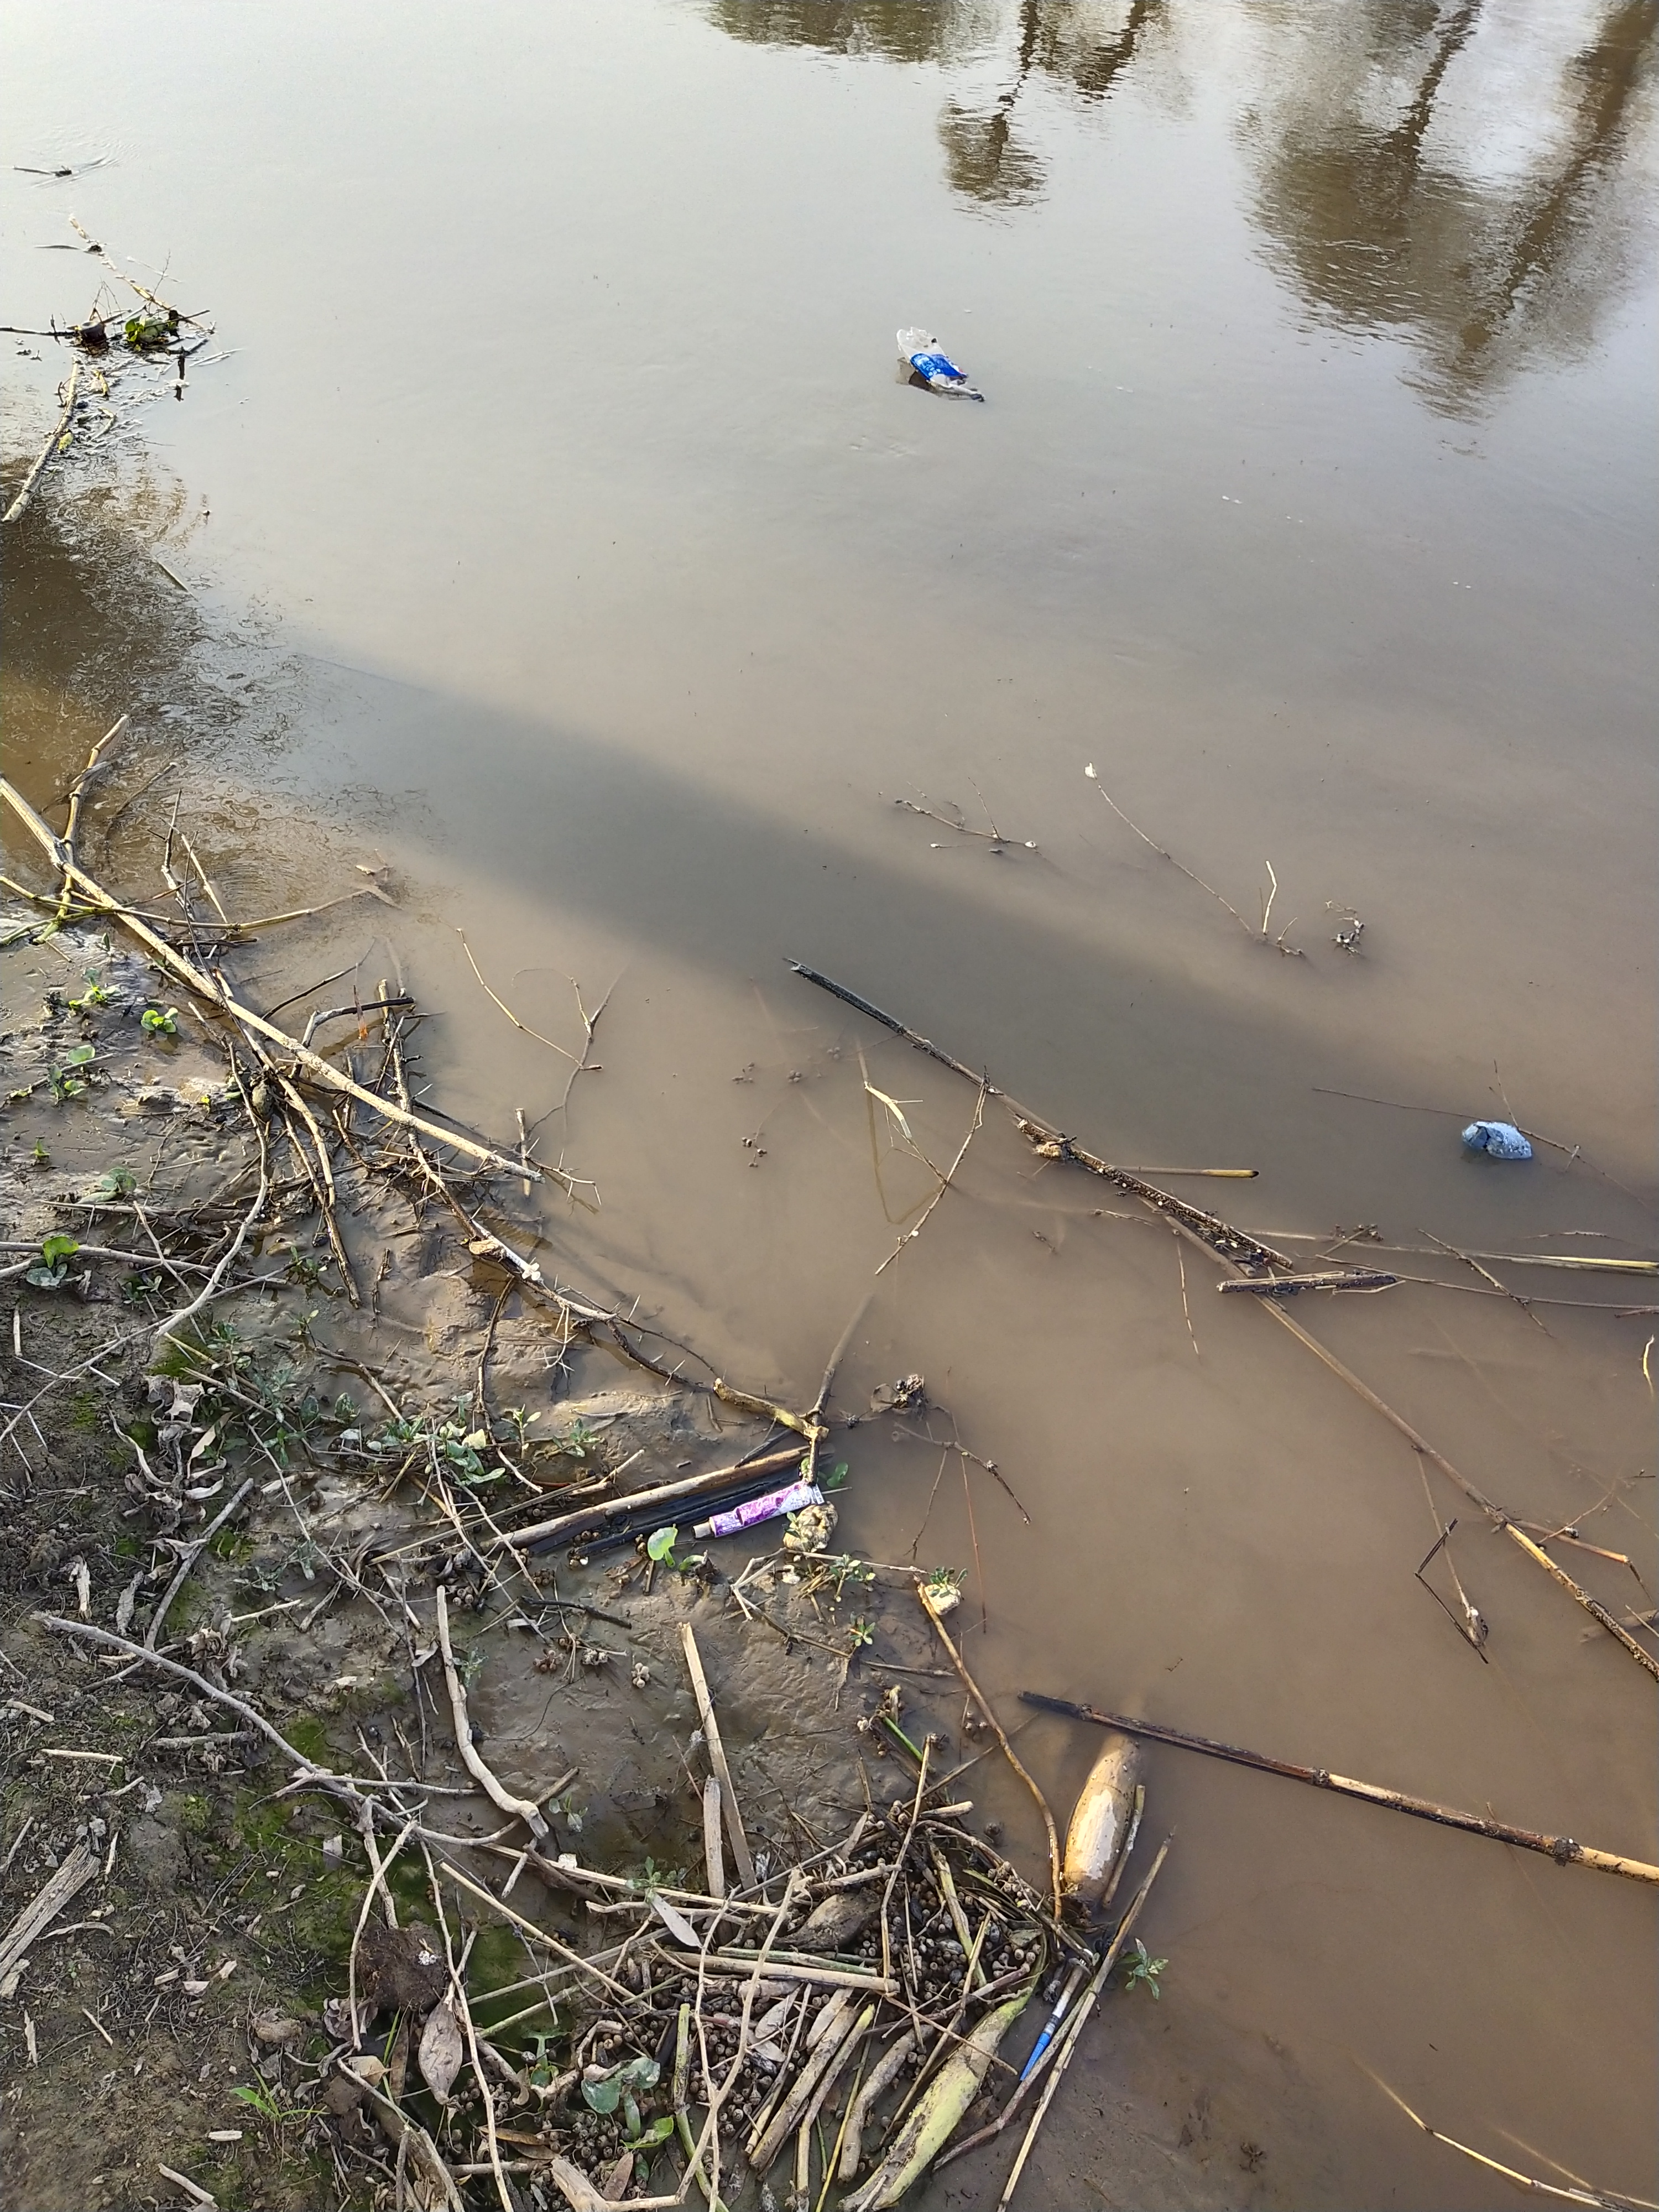Plastic Bottle: (896, 326, 983, 401), (1460, 1120, 1532, 1160)
